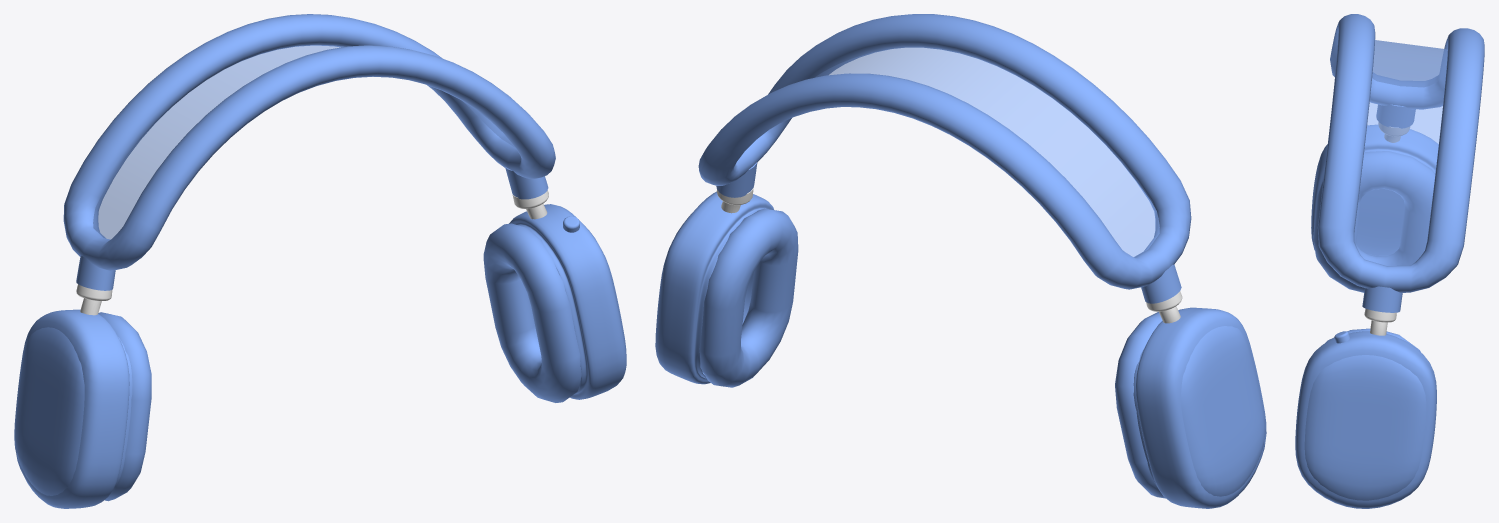
File: Airpods_blue_H.glb
3 views of the same model, side by side, from view 1: azimuth 30°, elevation 25°; view 2: azimuth 150°, elevation 25°; view 3: azimuth 270°, elevation 25° (orthographic). The views are drawn at different scales.
Visible parts, largest first — view 1: pCylinder4.001, polySurface9, polySurface7, polySurface15, pPlane1.001, polySurface13; view 2: pCylinder4.001, polySurface9, pPlane1.001, polySurface7, polySurface15, polySurface13; view 3: pCylinder4.001, pPlane1.001, polySurface15, polySurface9, polySurface7, polySurface13.
Boxes of the visible parts, box(x1,y1,x2,y2) form: pCylinder4.001: box(63, 14, 555, 290); polySurface9: box(14, 204, 626, 508); polySurface7: box(98, 223, 581, 501); polySurface15: box(14, 255, 626, 495); pPlane1.001: box(93, 45, 514, 239); polySurface13: box(76, 190, 548, 315); pCylinder4.001: box(698, 14, 1191, 303); polySurface9: box(655, 192, 1266, 508); pPlane1.001: box(814, 47, 1159, 256); polySurface7: box(699, 208, 1165, 498); polySurface15: box(657, 271, 1265, 496); polySurface13: box(716, 188, 1182, 323); pCylinder4.001: box(1317, 14, 1484, 312); pPlane1.001: box(1354, 40, 1447, 265); polySurface15: box(1304, 254, 1426, 500); polySurface9: box(1295, 124, 1438, 508); polySurface7: box(1313, 151, 1435, 351); polySurface13: box(1364, 122, 1409, 335).
Size of the model in its own units: 0.0825 by 0.0572 by 0.0272.
